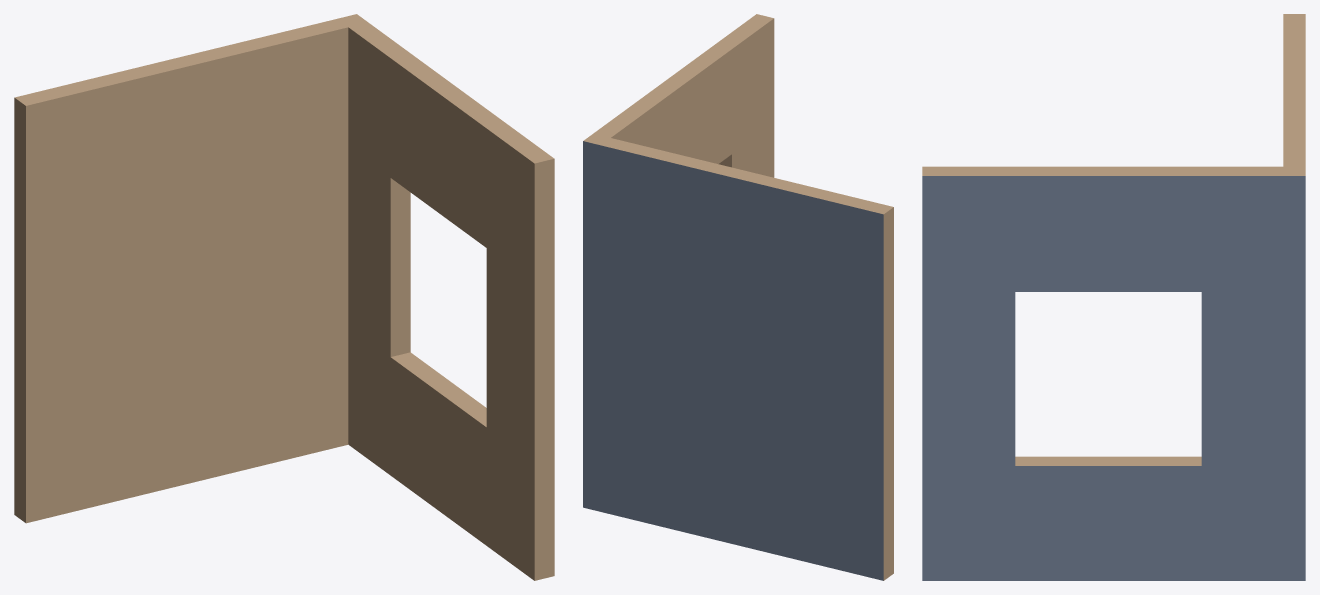
The model's file is Wall3_C3_11.fbx.
3 renders of one model, left to right at view 1: azimuth 30°, elevation 25°; view 2: azimuth 150°, elevation 25°; view 3: azimuth 270°, elevation 25°, orthographic. The views are drawn at different scales.
Parts seen in each view (by area): view 1: Wall3_C3_11; view 2: Wall3_C3_11; view 3: Wall3_C3_11.
Part boxes in pixels (x1=…): Wall3_C3_11: x1=14, y1=14, x2=554, y2=580; Wall3_C3_11: x1=583, y1=14, x2=893, y2=580; Wall3_C3_11: x1=922, y1=14, x2=1305, y2=580.
Size of the model in its own units: 258 by 300 by 258.
